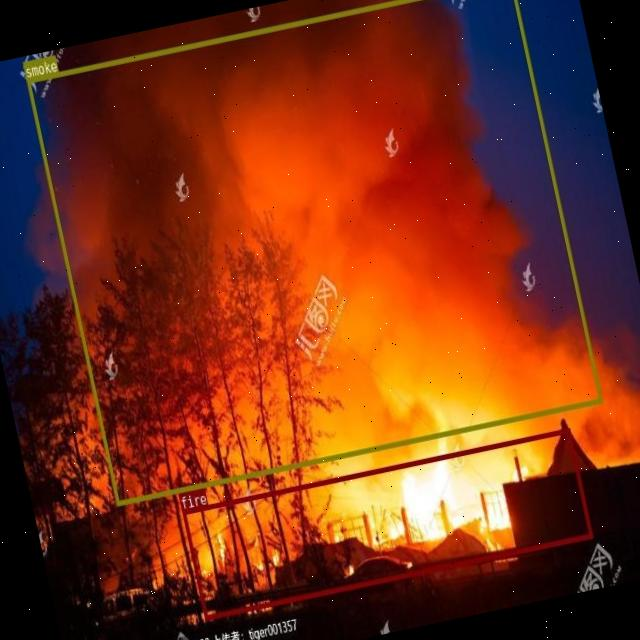fire: (180, 426, 592, 620)
smoke: (25, 0, 602, 504)
